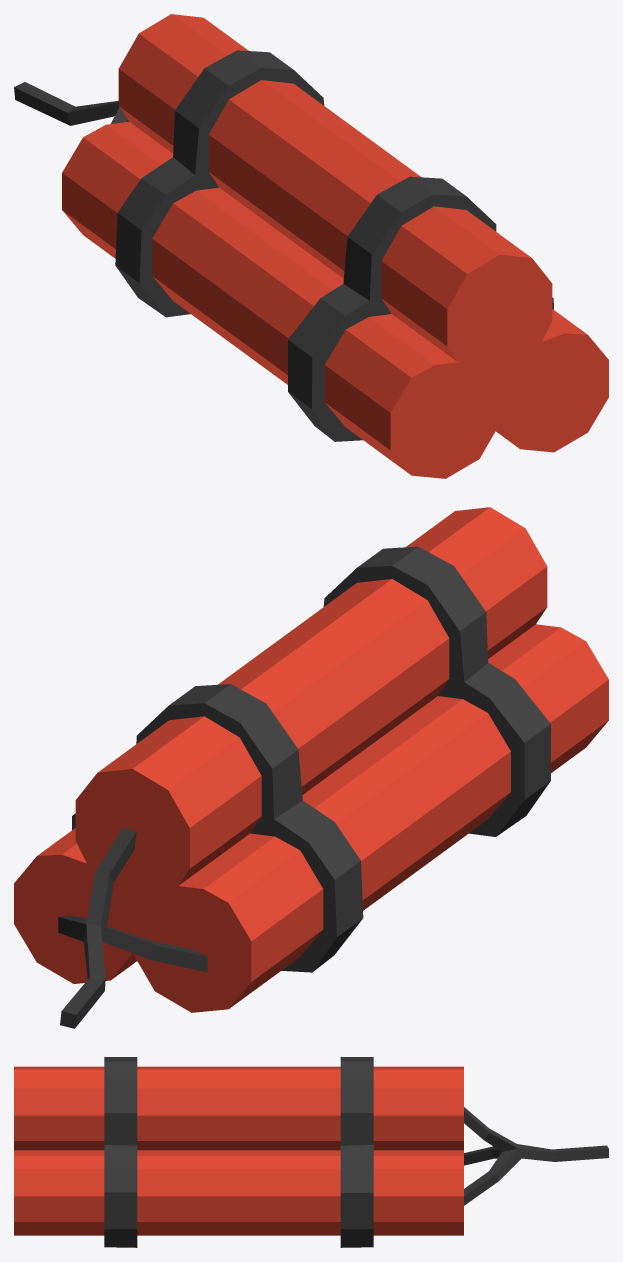
Rendered from Dynamite.fbx.
3 views of the same model, one above another, from view 1: azimuth 30°, elevation 25°; view 2: azimuth 150°, elevation 25°; view 3: azimuth 270°, elevation 25° (orthographic). The views are drawn at different scales.
Parts seen in each view (by area): view 1: Dynamite_LOD0; view 2: Dynamite_LOD0; view 3: Dynamite_LOD0.
Part boxes in pixels (<box>): Dynamite_LOD0: <box>14,14,608,478</box>; Dynamite_LOD0: <box>14,507,608,1028</box>; Dynamite_LOD0: <box>14,1057,608,1247</box>.
Size of what is drawn, in the model's own units: 63.98 by 58.9 by 198.
